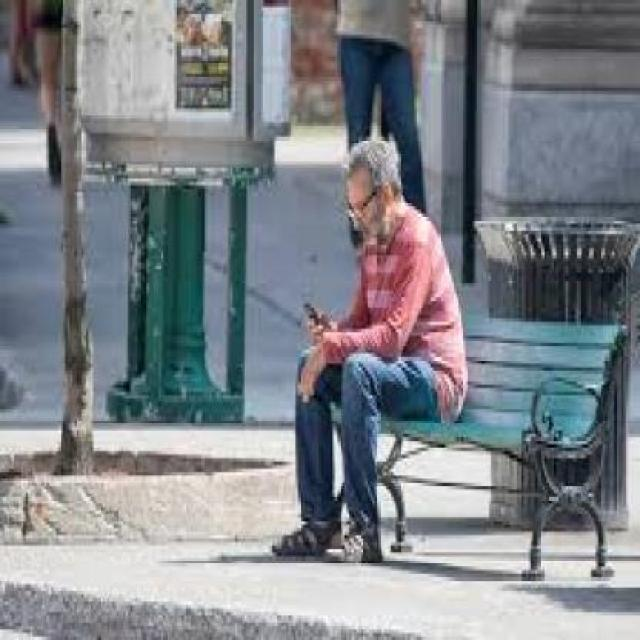sem_oculos: (343, 182, 392, 228)
